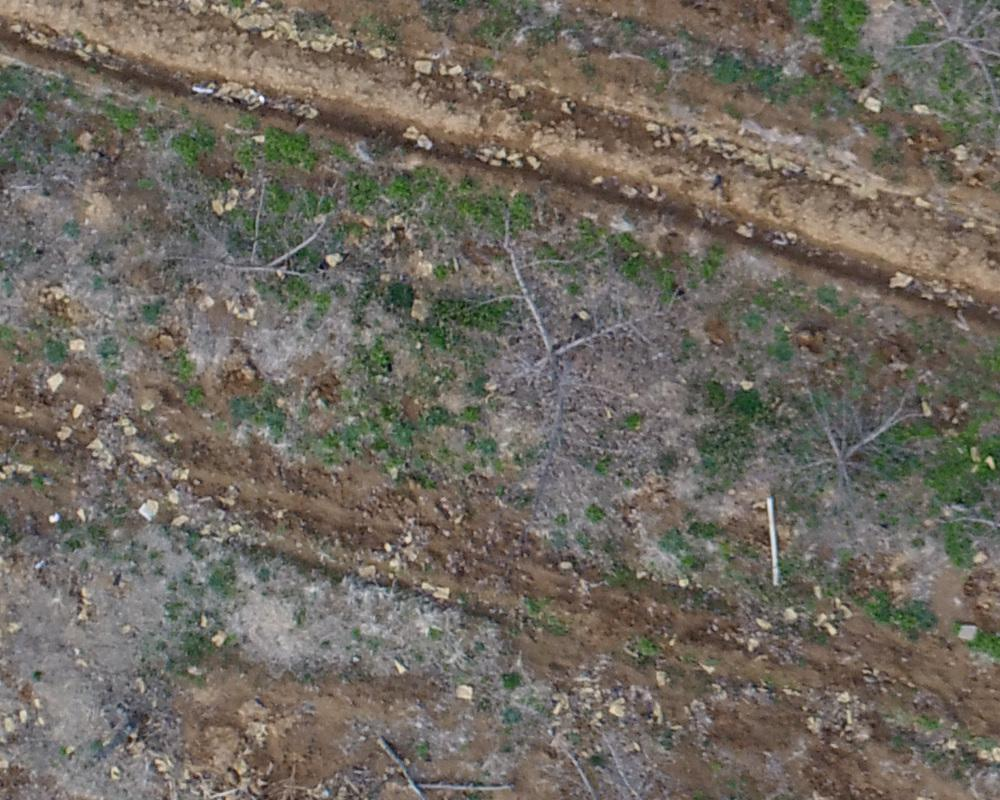apple: (436, 214, 671, 501), (750, 353, 949, 515), (162, 156, 329, 333), (836, 10, 990, 156)
